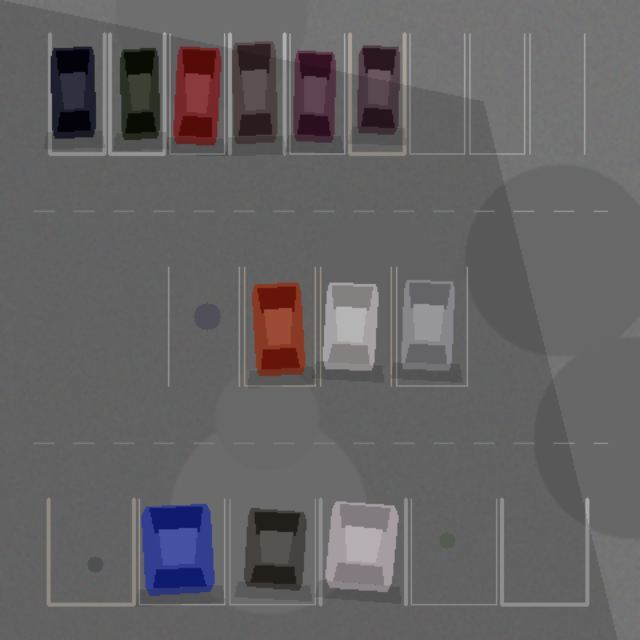space-empty: (501, 499, 587, 604), (48, 499, 133, 604), (411, 499, 496, 604), (168, 267, 239, 385), (409, 33, 464, 153), (469, 33, 524, 153), (529, 33, 584, 153)
space-occupied: (229, 499, 315, 604), (139, 499, 224, 604), (320, 499, 405, 604), (244, 267, 315, 385), (320, 267, 391, 385), (396, 267, 467, 385), (49, 33, 104, 153), (109, 33, 164, 153), (169, 33, 224, 153), (229, 33, 284, 153), (289, 33, 344, 153), (349, 33, 404, 153)
